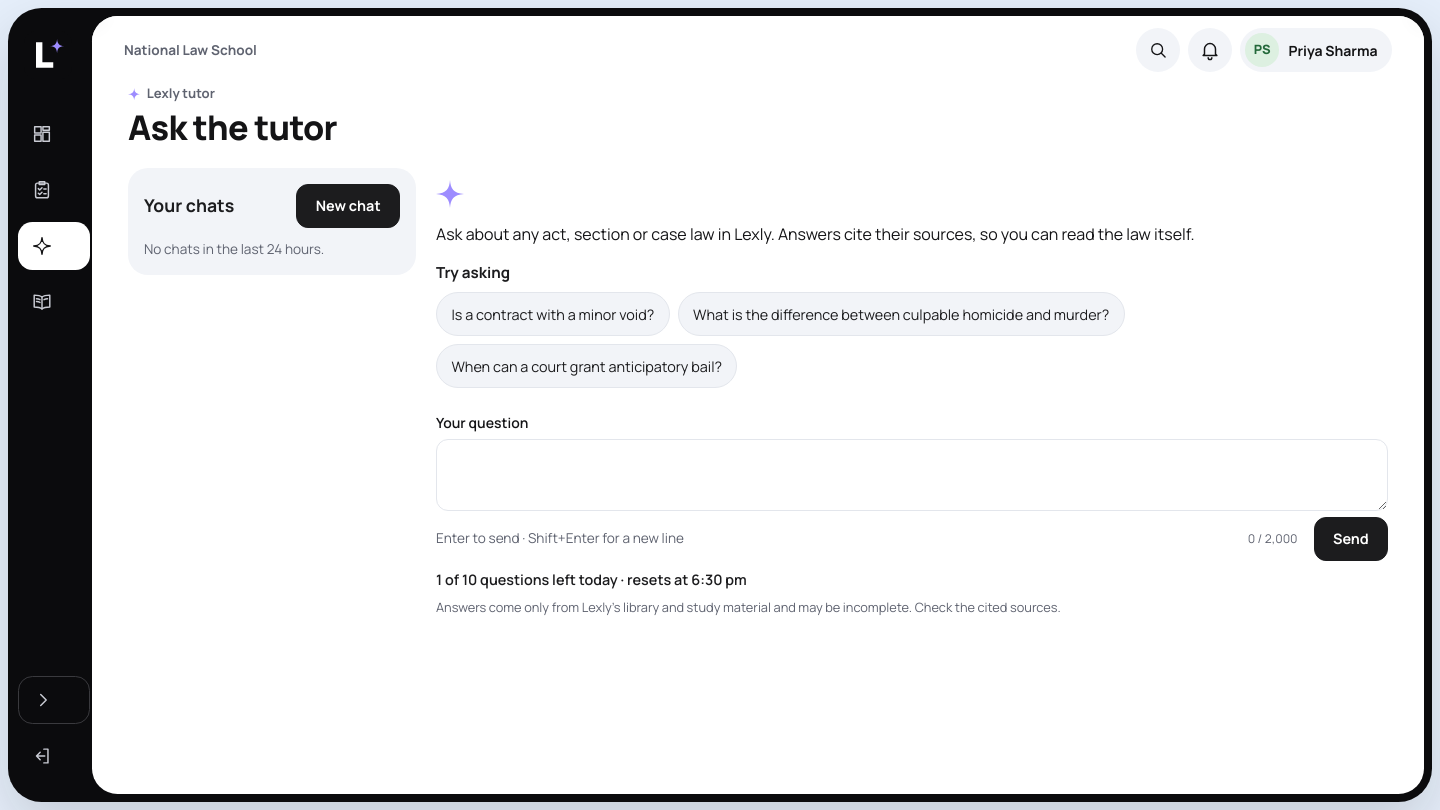
tutor (F5a.3) › on QUOTA_EXCEEDED disables the composer, keeps the question and shows the reset time
Expected: the text "1 of 10 questions left today · resets at 6:30 pm" is shown, [436, 570, 747, 589]
Type "Is a contract with a minor void?" into the text box labelled "Your question" at [912, 475], box [436, 439, 1388, 511]
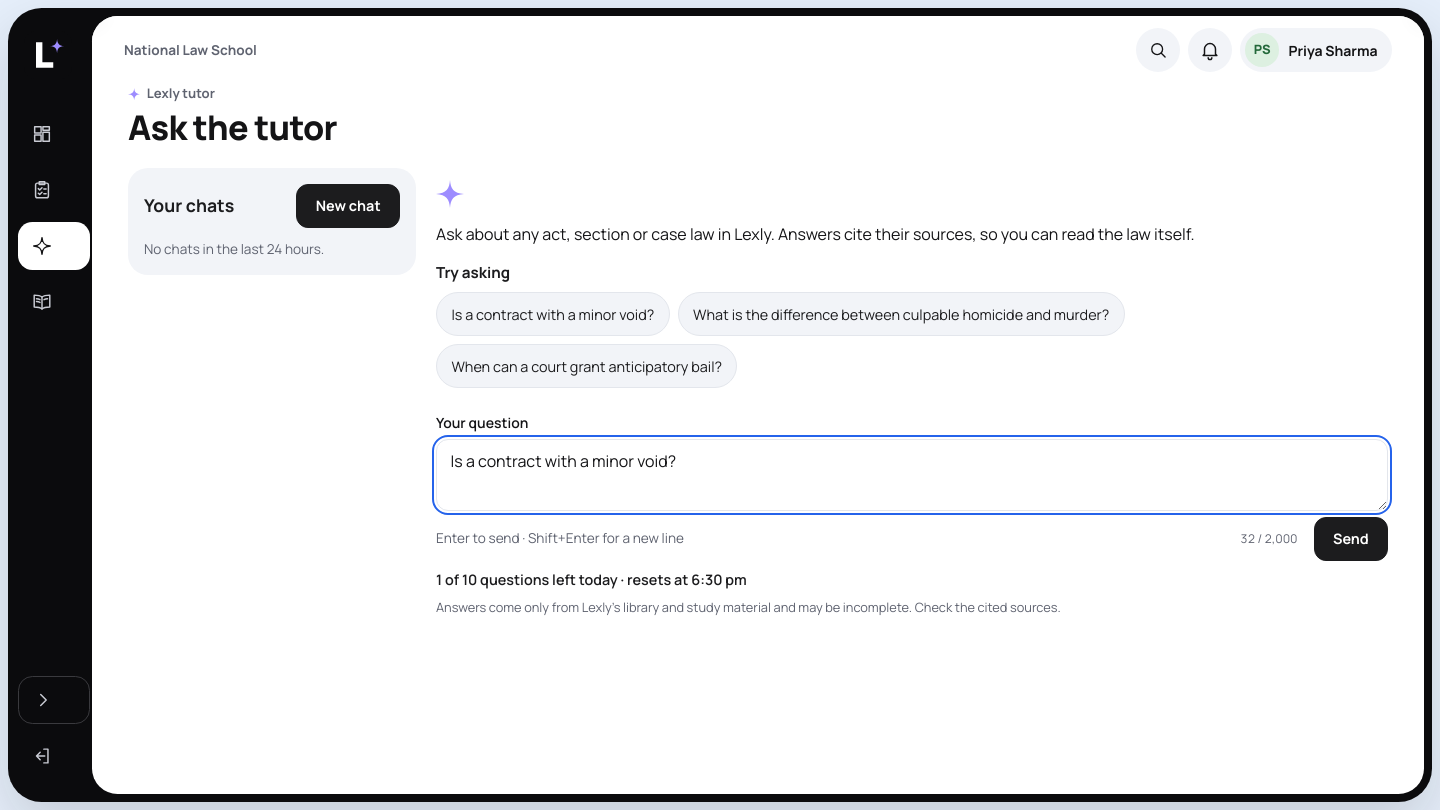
Click the button "Send" at [1351, 539], box [1314, 517, 1388, 561]
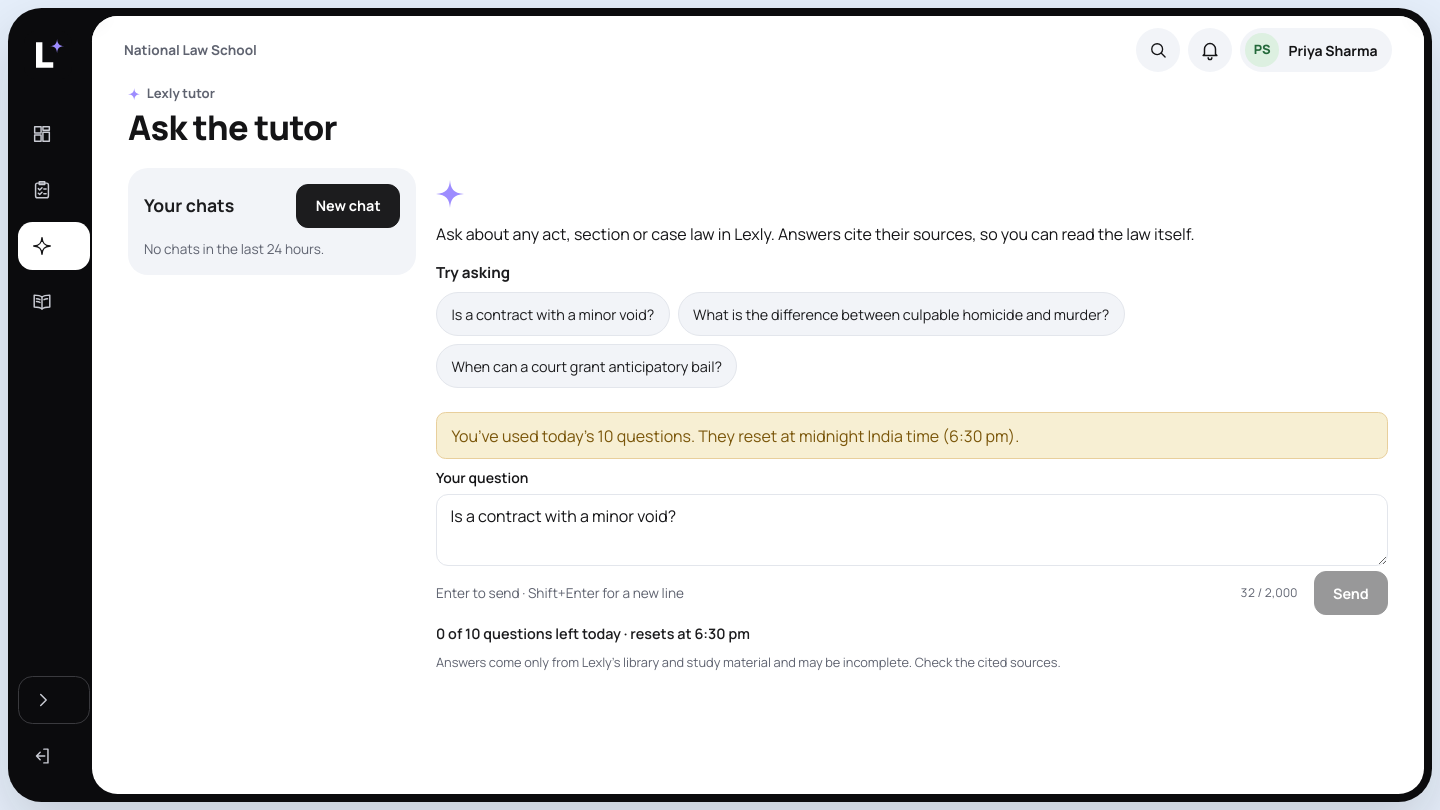
Expected: the text "You’ve used today’s 10 questions. They reset at midnight India time (6:30 pm)." is shown, [436, 412, 1388, 459]
Expected: the text box labelled "Your question" is disabled, [436, 494, 1388, 566]
Expected: the button "Send" is disabled, [1314, 571, 1388, 615]
